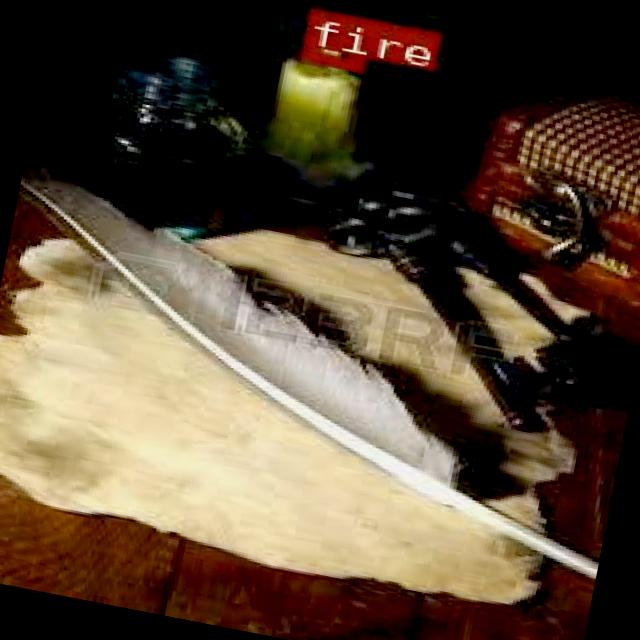fire: (300, 8, 370, 70)
